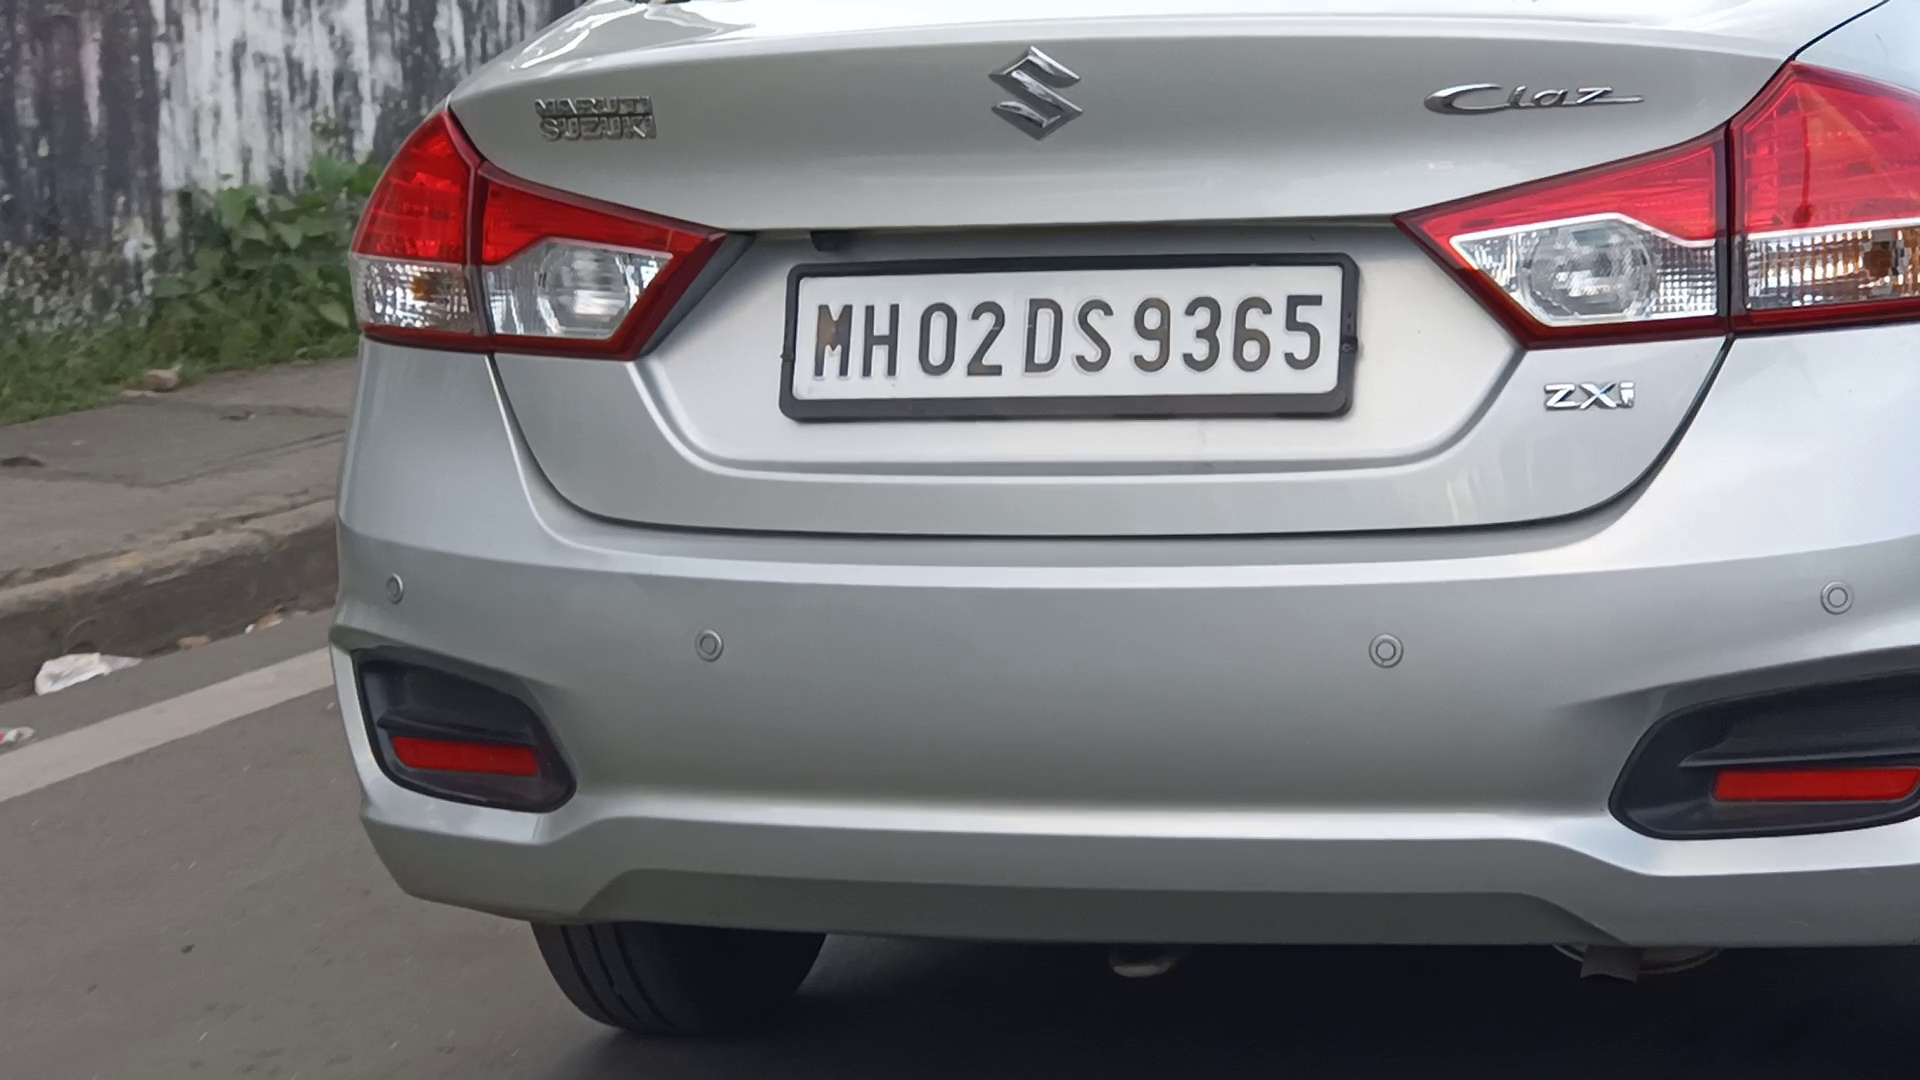MH02DS9365: (788, 267, 1342, 403)
